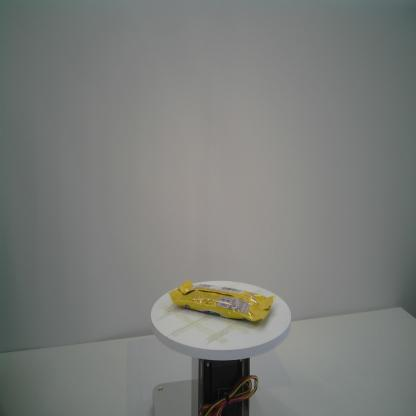Chocolate: (168, 279, 276, 322)
